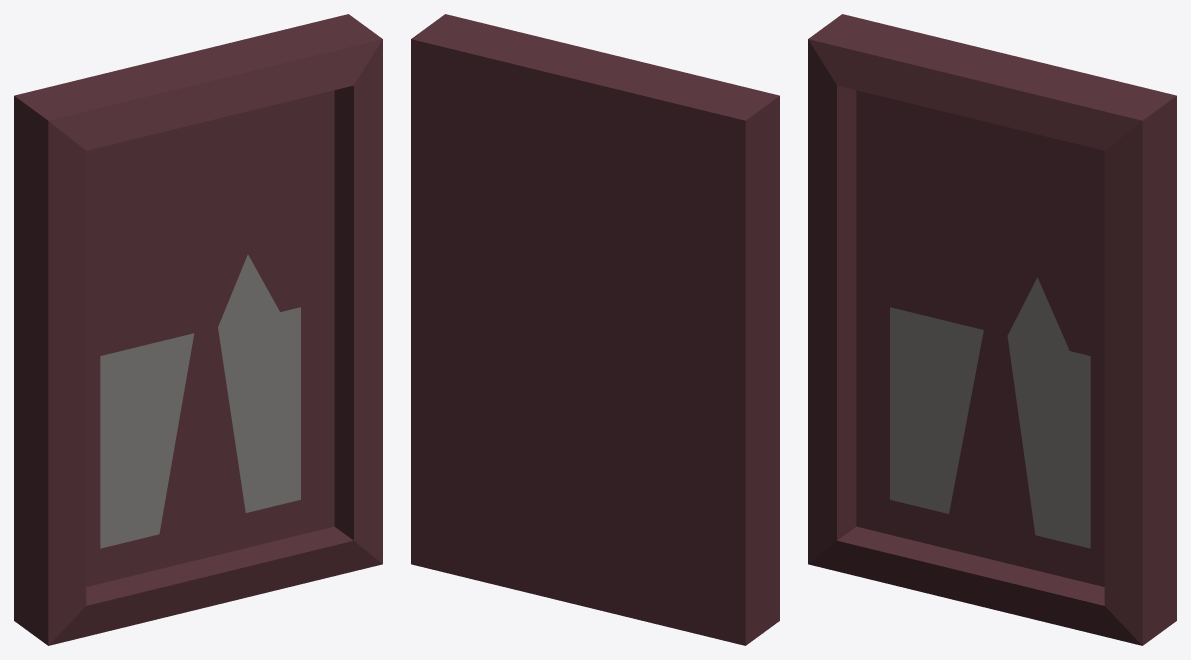
Rendered from furniture-picture-nature-small.glb.
The picture shows the model from 3 angles, left to right: view 1: azimuth 30°, elevation 25°; view 2: azimuth 150°, elevation 25°; view 3: azimuth 330°, elevation 25°; orthographic projection.
Visible parts, largest first — view 1: picture-nature-small; view 2: picture-nature-small; view 3: picture-nature-small.
Boxes of the visible parts, x1,y1,x2,y2 form: picture-nature-small: [14, 14, 382, 645]; picture-nature-small: [411, 14, 779, 645]; picture-nature-small: [808, 14, 1176, 645].
Bounding box in the file's own units: 0.12 × 0.18 × 0.024.
